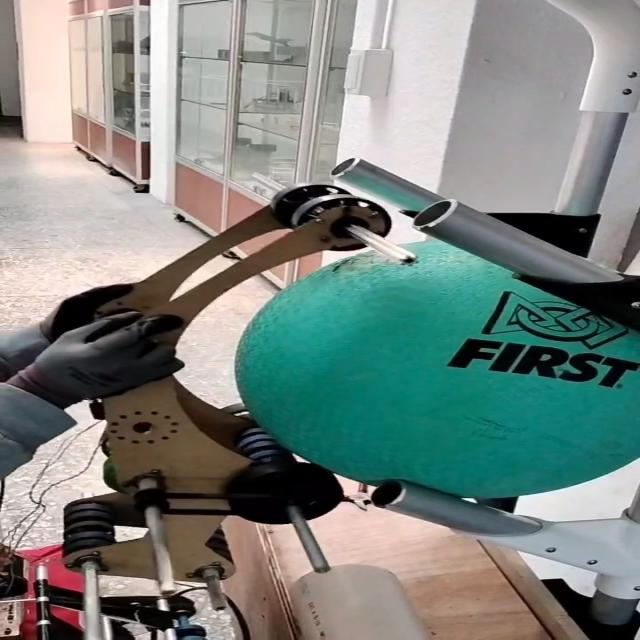ALGAE: (237, 238, 640, 506)
